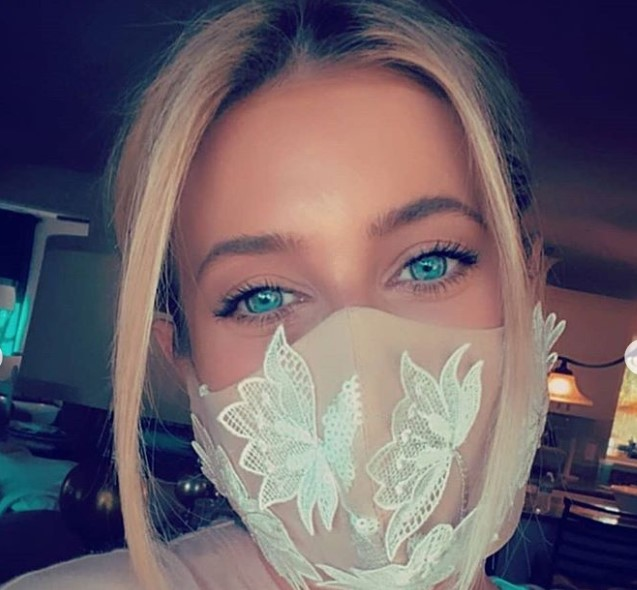face_with_mask: (131, 8, 549, 588)
